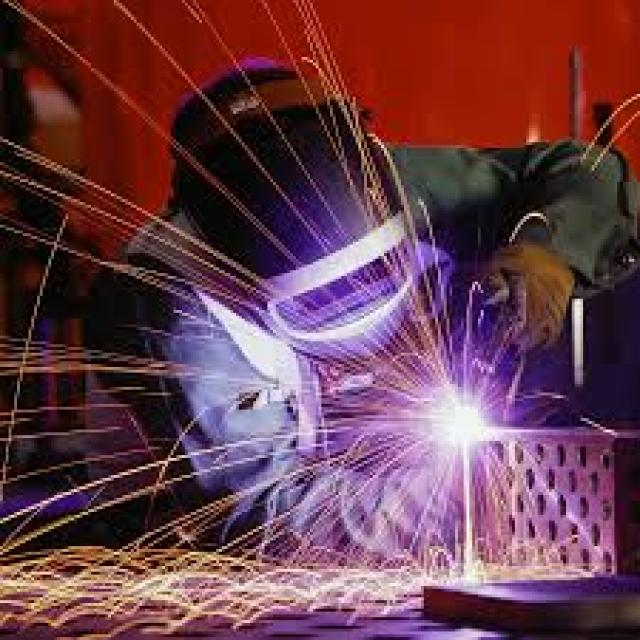welding: (434, 402, 485, 450)
